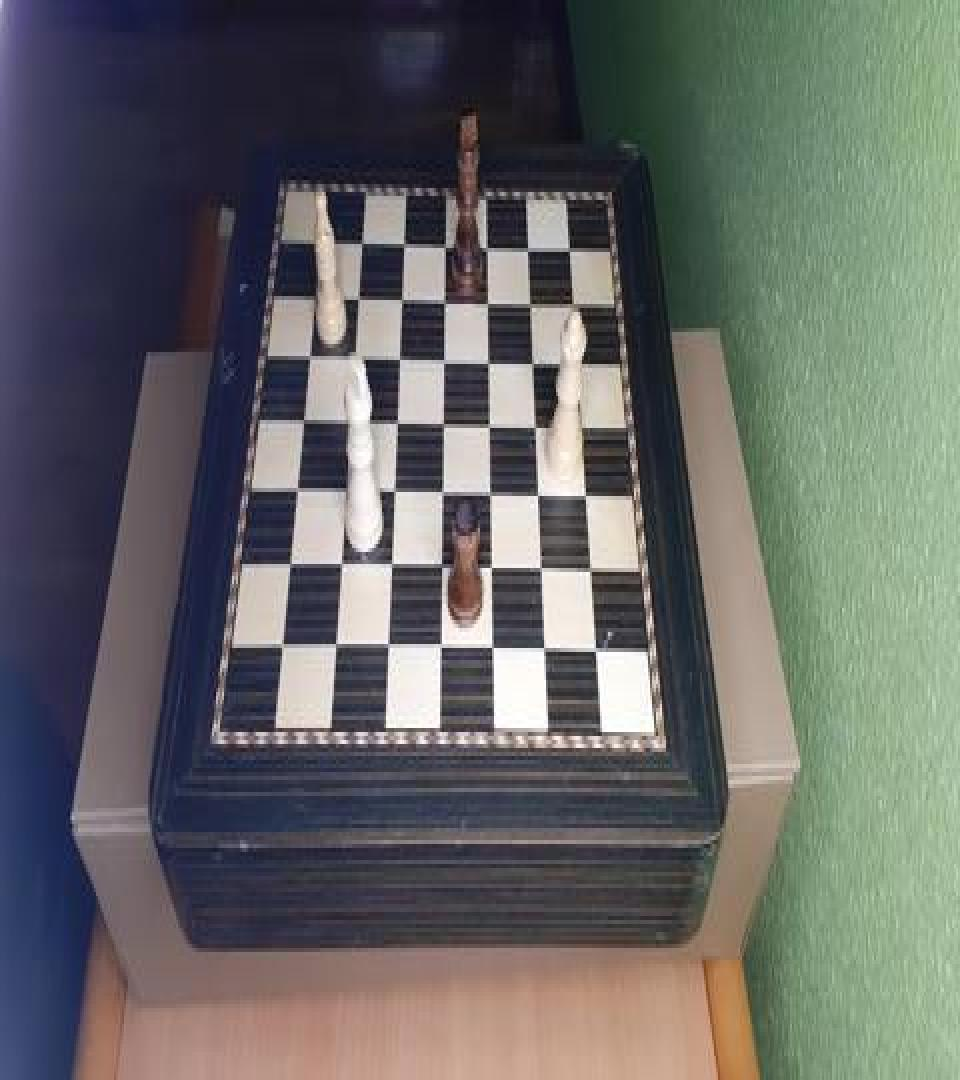xcorner: (312, 228, 324, 252), (307, 284, 319, 308), (302, 344, 314, 368), (296, 408, 308, 432), (290, 478, 302, 502), (284, 554, 296, 578), (277, 636, 289, 660), (355, 228, 367, 252), (351, 284, 363, 308), (348, 346, 360, 370), (344, 410, 356, 434), (340, 480, 352, 504), (335, 556, 347, 580), (330, 638, 342, 662), (397, 230, 409, 254), (395, 286, 407, 310), (393, 346, 405, 370), (391, 412, 403, 436), (389, 482, 401, 506), (386, 556, 398, 580), (383, 638, 395, 662), (440, 230, 452, 254), (439, 288, 451, 312), (439, 348, 451, 372), (438, 412, 450, 436), (438, 482, 450, 506), (437, 558, 449, 582), (437, 640, 449, 664), (482, 232, 494, 256), (483, 288, 495, 312), (484, 348, 496, 372), (485, 414, 497, 438), (487, 484, 499, 508), (488, 558, 500, 582), (489, 640, 501, 664), (524, 234, 536, 258), (527, 290, 539, 314), (530, 350, 542, 374), (532, 414, 544, 438), (535, 484, 547, 508), (539, 560, 551, 584), (542, 642, 554, 666), (567, 234, 579, 258), (571, 290, 583, 314), (575, 352, 587, 376), (579, 416, 591, 440), (584, 486, 596, 510), (589, 560, 601, 584), (595, 642, 607, 666)
